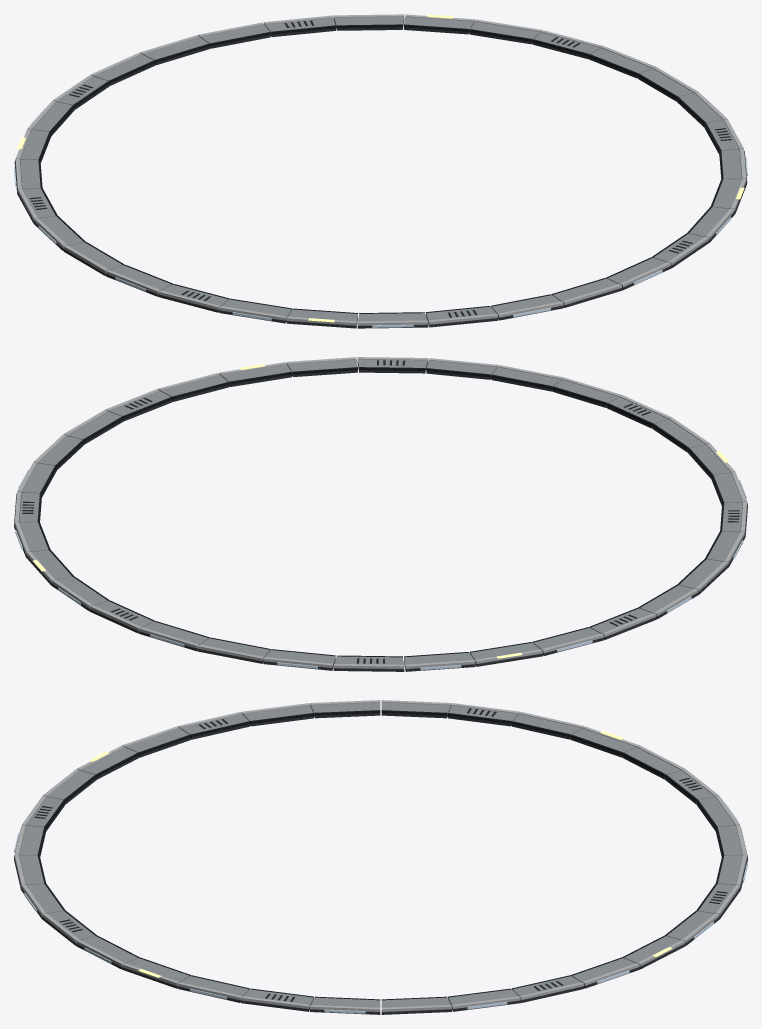
Rendered from SM_OmenRoom_PoolEdge.fbx.
The picture shows the model from 3 angles, top to bottom: view 1: azimuth 30°, elevation 25°; view 2: azimuth 150°, elevation 25°; view 3: azimuth 270°, elevation 25°; orthographic projection.
Visible parts, largest first — view 1: SM_OmenRoom_PoolEdge; view 2: SM_OmenRoom_PoolEdge; view 3: SM_OmenRoom_PoolEdge.
Boxes of the visible parts, x1,y1,x2,y2 form: SM_OmenRoom_PoolEdge: [14, 14, 747, 328]; SM_OmenRoom_PoolEdge: [14, 357, 747, 671]; SM_OmenRoom_PoolEdge: [14, 700, 747, 1014].
Size of the model in its own units: 1798 by 1798 by 15.6.
